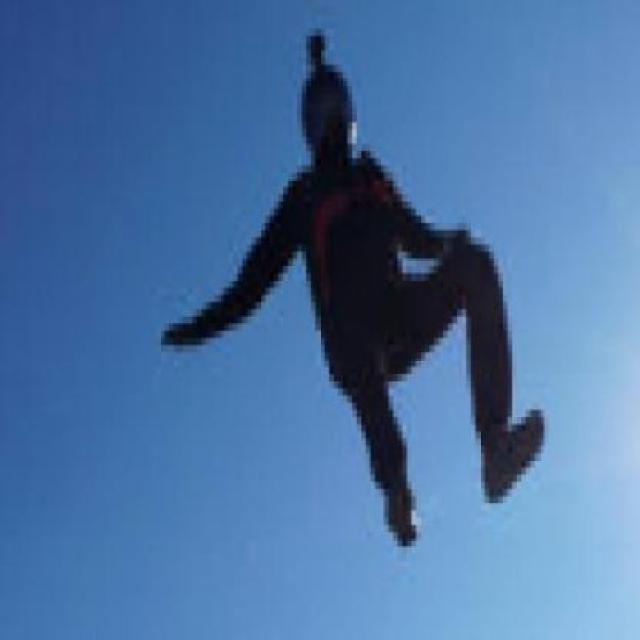fall: (159, 23, 555, 549)
